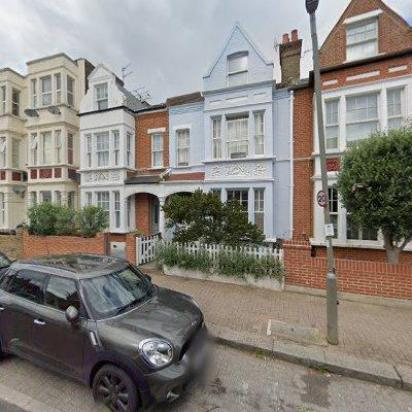stationary-car-onstreet: (0, 252, 206, 410), (0, 248, 20, 282)
